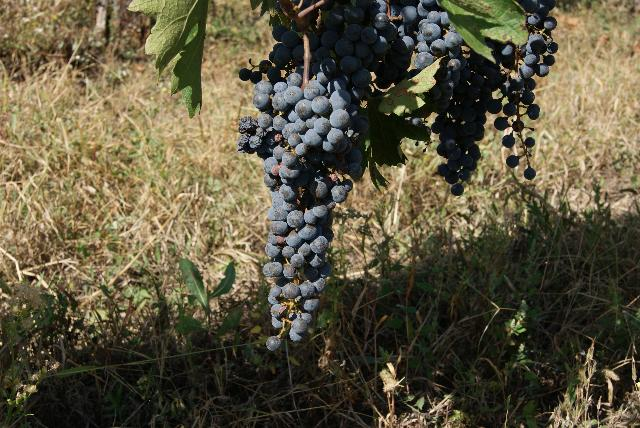grapes: (238, 62, 365, 351), (414, 0, 559, 196)
